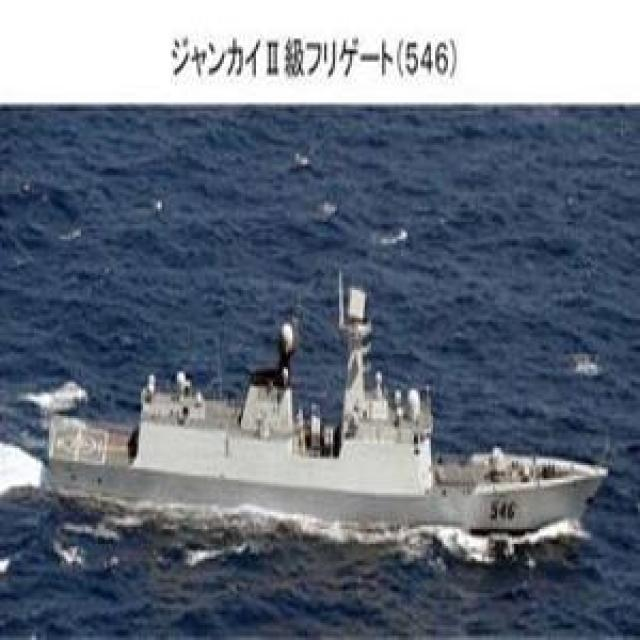navalvessels: (49, 287, 608, 551)
